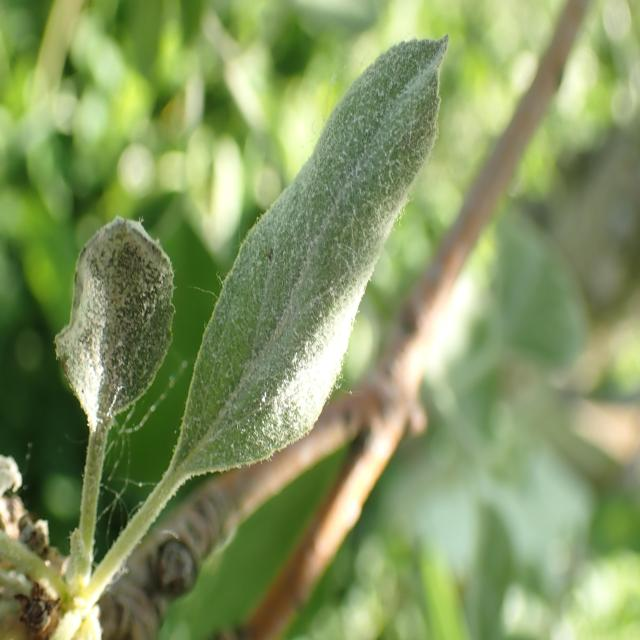Powdery_mildew: (202, 4, 452, 448), (52, 190, 177, 454)
